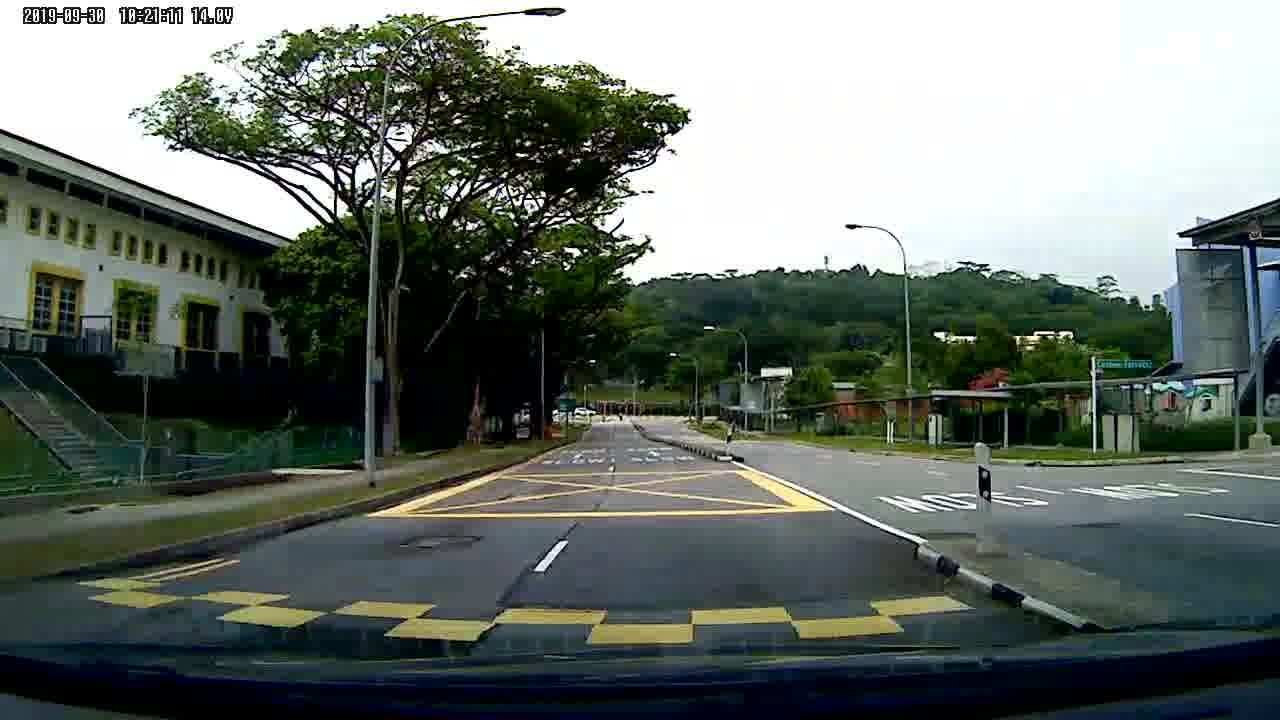car: (572, 404, 599, 421)
